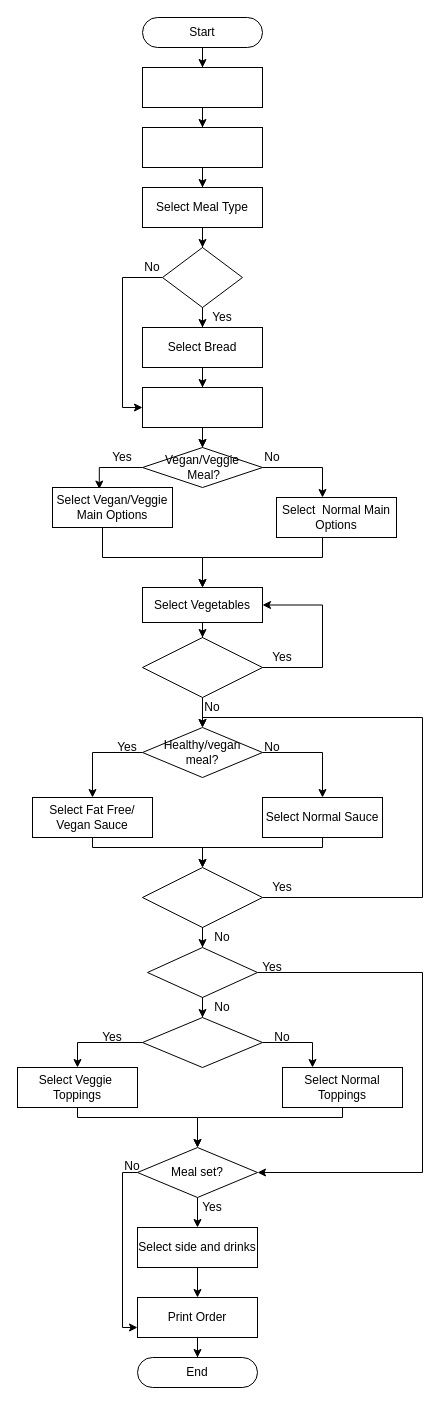
This 448x1405 diagram has some shape labels left out. The centre of each missing label's shape, as x and y in pixels:
More Sauces?: the point at 202,897
More Vegetables?: the point at 202,667
Sandwich base?: the point at 202,277
Select Base: the point at 202,147
Select Main: the point at 202,407
Vegan/Value Meal: the point at 202,972
Veggie Meal?: the point at 202,1042
Welcome: the point at 202,87
